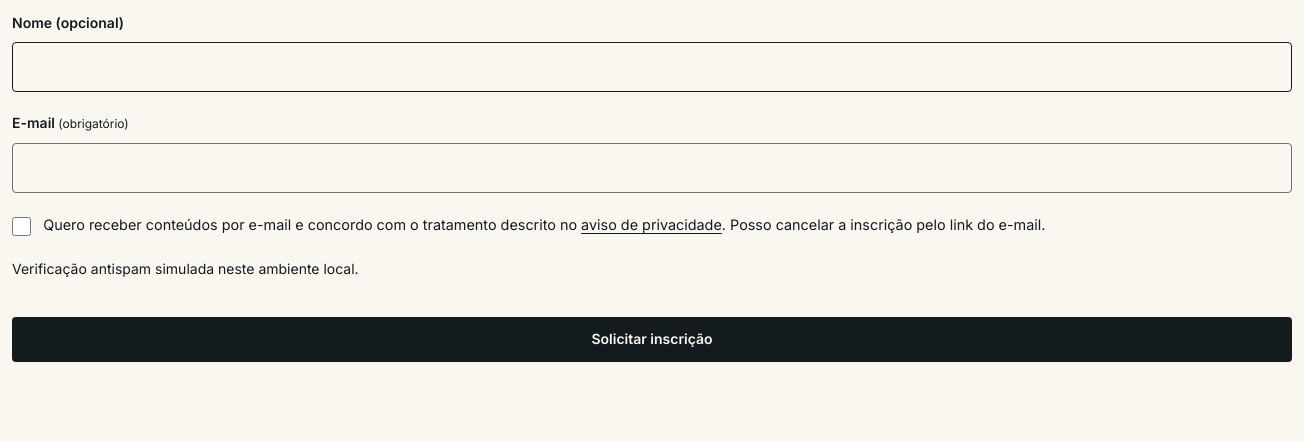
Scenario: newsletter failure preserves input and retry reports pending confirmation, never activation
Type "ficticio@example.test" into the field labelled "E-mail (obrigatório)" at coordinates (652, 168), box x1=12 y1=143 x2=1292 y2=193
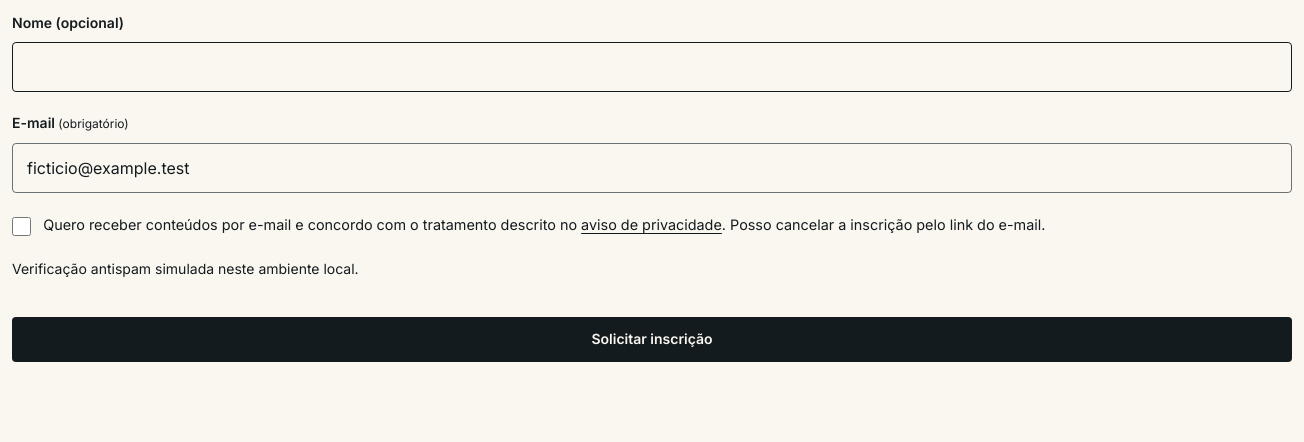
Click the checkbox at coordinates (22, 226), box x1=12 y1=217 x2=31 y2=236
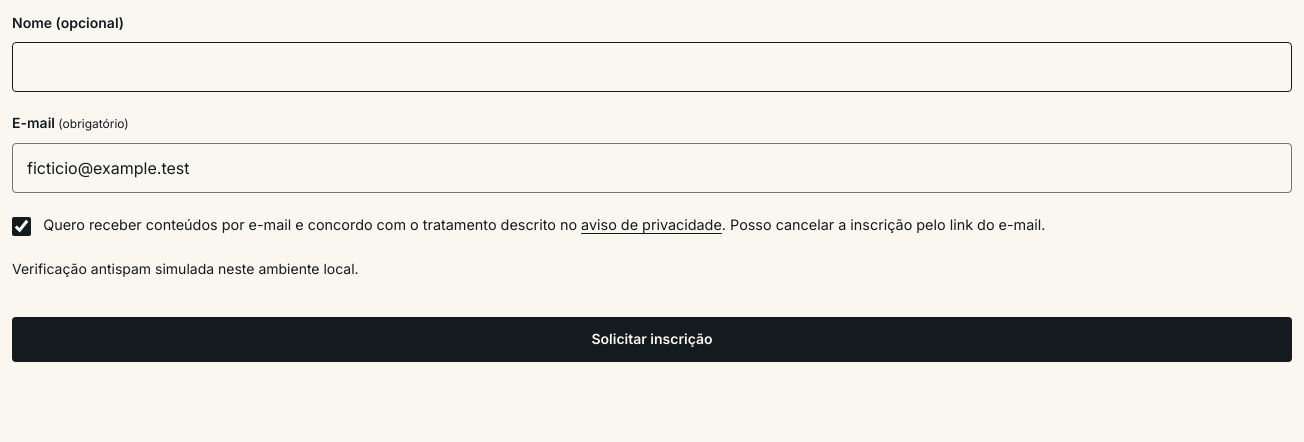
Expected: the button "Solicitar inscrição" is enabled, x1=12 y1=317 x2=1292 y2=362
Submit the form named "Solicitar inscrição"
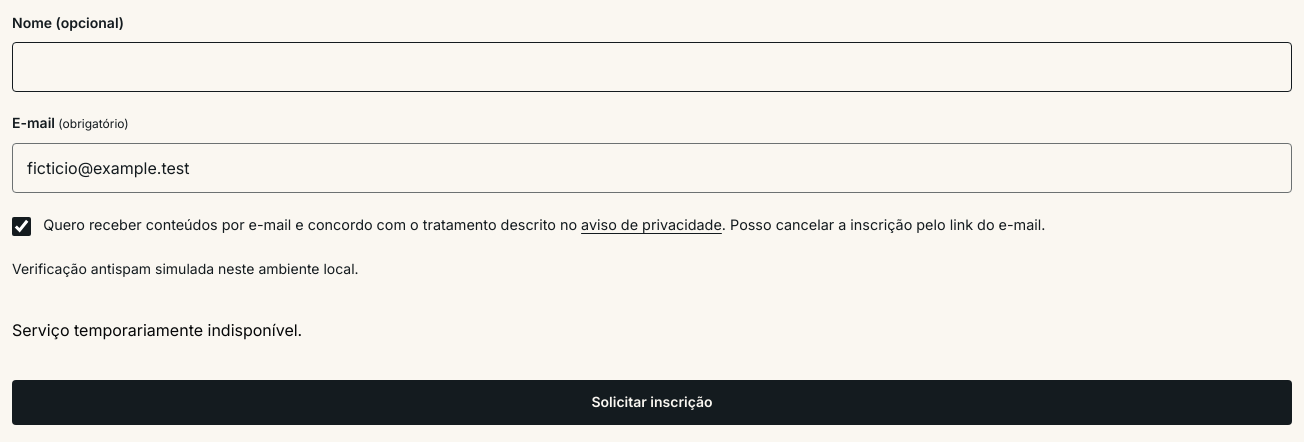
Expected: the button "Solicitar inscrição" is enabled, x1=12 y1=380 x2=1292 y2=425
Expected: the message shows "temporariamente indisponível", x1=12 y1=320 x2=302 y2=340
Submit the form named "Solicitar inscrição"
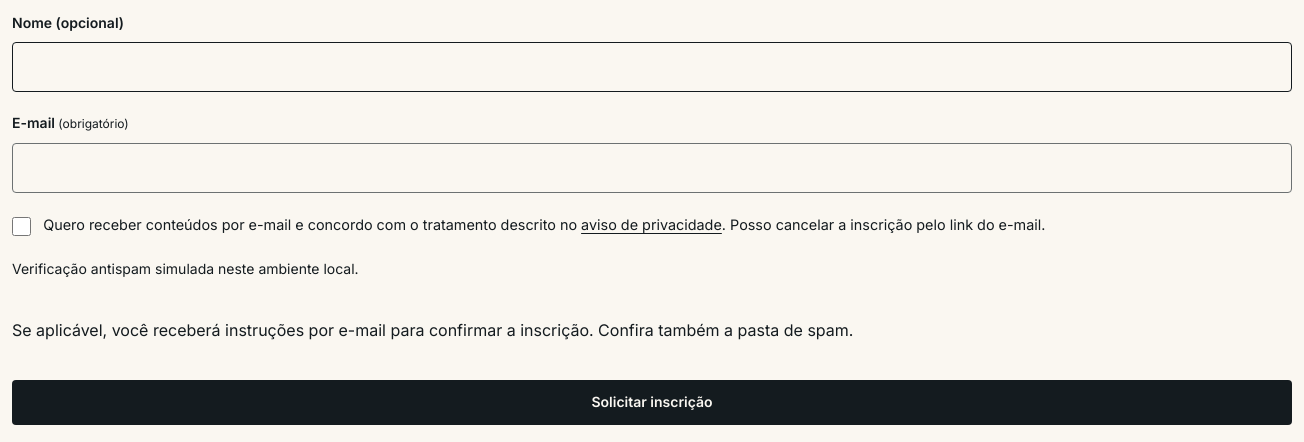
Expected: the message does not show "Inscrição confirmada", x1=12 y1=320 x2=853 y2=340
Expected: the message shows "instruções por e-mail para confirmar", x1=12 y1=320 x2=853 y2=340
Expected: the field labelled "E-mail (obrigatório)" is empty, x1=12 y1=143 x2=1292 y2=193
